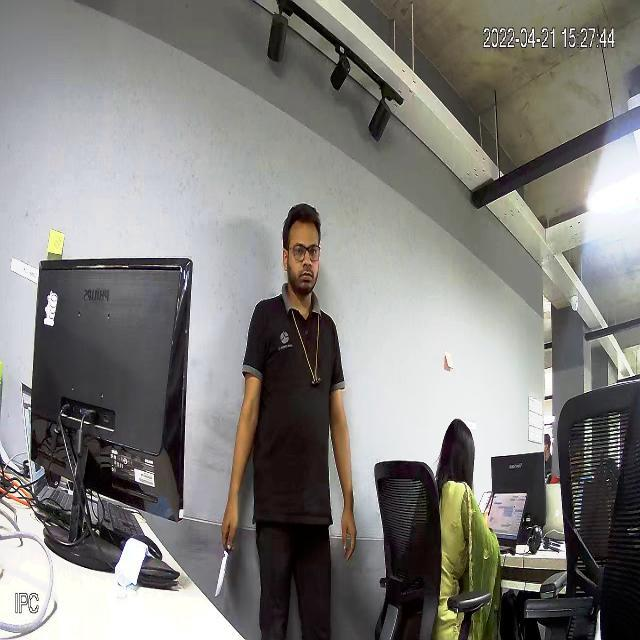Knife: (208, 517, 242, 600)
